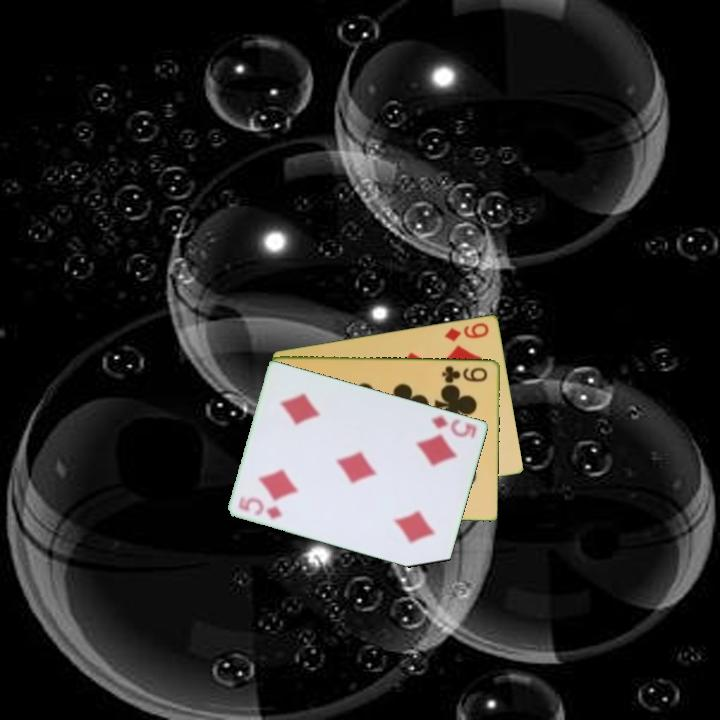5d: (235, 492, 286, 522), (428, 412, 480, 441)
9c: (439, 362, 490, 384)
9d: (441, 319, 492, 344)
